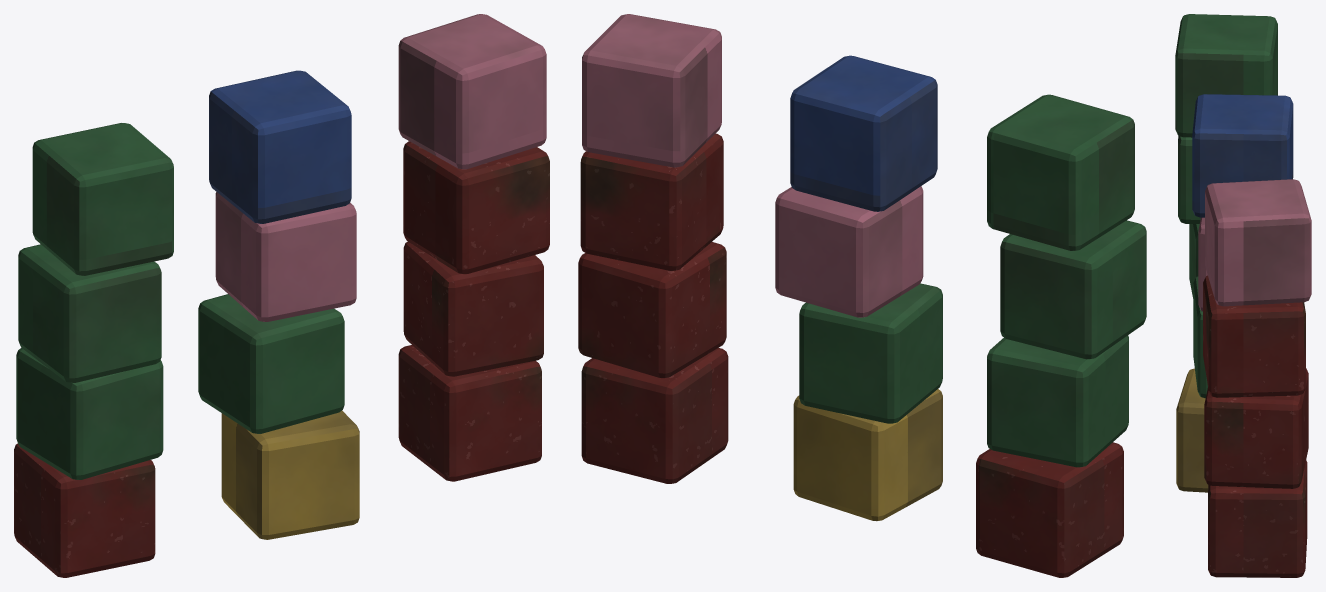
Rendered from TY15_toy_block_tower_v1.glb.
3 renders of one model, left to right at view 1: azimuth 30°, elevation 25°; view 2: azimuth 150°, elevation 25°; view 3: azimuth 270°, elevation 25°, orthographic. The views are drawn at different scales.
Visible parts, largest first — view 1: TY15_toy_block_tower_v1; view 2: TY15_toy_block_tower_v1; view 3: TY15_toy_block_tower_v1.
Part boxes in pixels (left/top/right/bottom): TY15_toy_block_tower_v1: left=14, top=14, right=549, bottom=577; TY15_toy_block_tower_v1: left=578, top=14, right=1146, bottom=577; TY15_toy_block_tower_v1: left=1175, top=14, right=1311, bottom=577.
Bounding box in the file's own units: 0.5 × 0.3931 × 0.1339.
5 materials, 5 textured.
